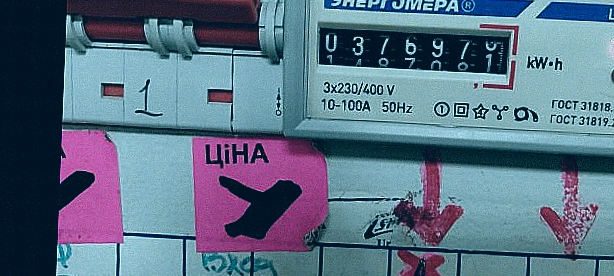0: (322, 30, 338, 52)
1: (482, 51, 492, 74)
3: (350, 34, 364, 55)
6: (402, 32, 418, 56)
7: (456, 35, 471, 59), (376, 32, 391, 55)
9: (429, 35, 444, 58)
screen: (305, 12, 522, 93)
